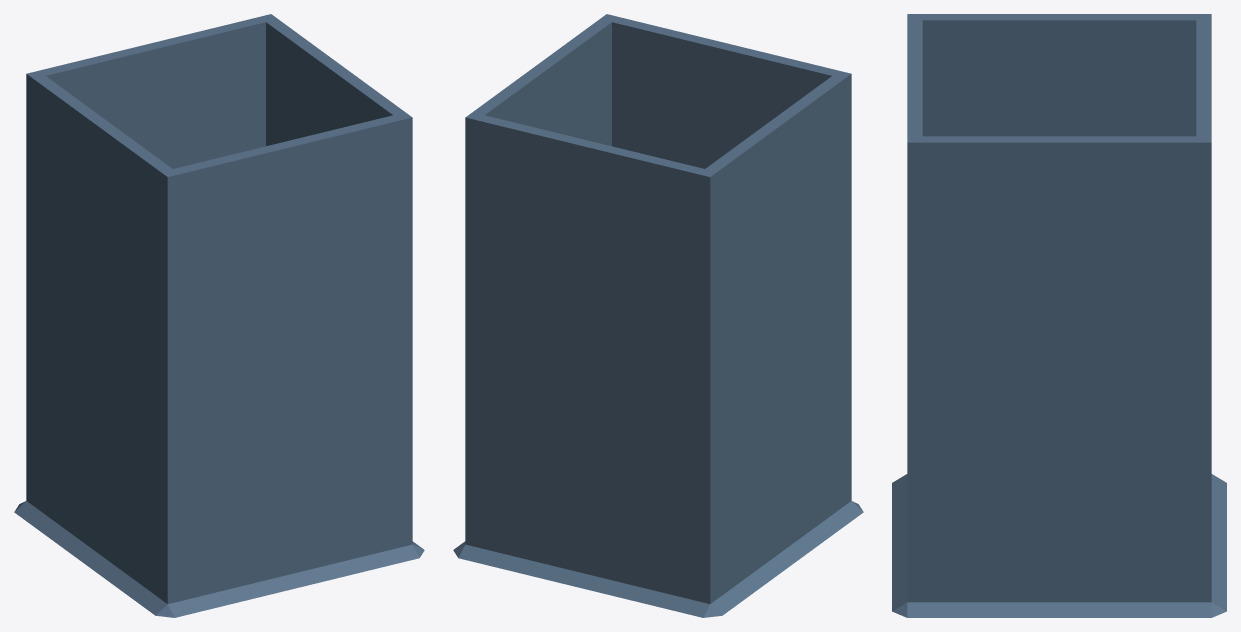
Rendered from Wall4.FBX.
The picture shows the model from 3 angles, left to right: view 1: azimuth 30°, elevation 25°; view 2: azimuth 150°, elevation 25°; view 3: azimuth 270°, elevation 25°; orthographic projection. The views are drawn at different scales.
Visible parts, largest first — view 1: Wall4; view 2: Wall4; view 3: Wall4.
Boxes of the visible parts, x1,y1,x2,y2 form: Wall4: (14, 14, 424, 617); Wall4: (453, 14, 863, 617); Wall4: (892, 14, 1226, 617).
Size of the model in its own units: 130 by 201 by 130.
